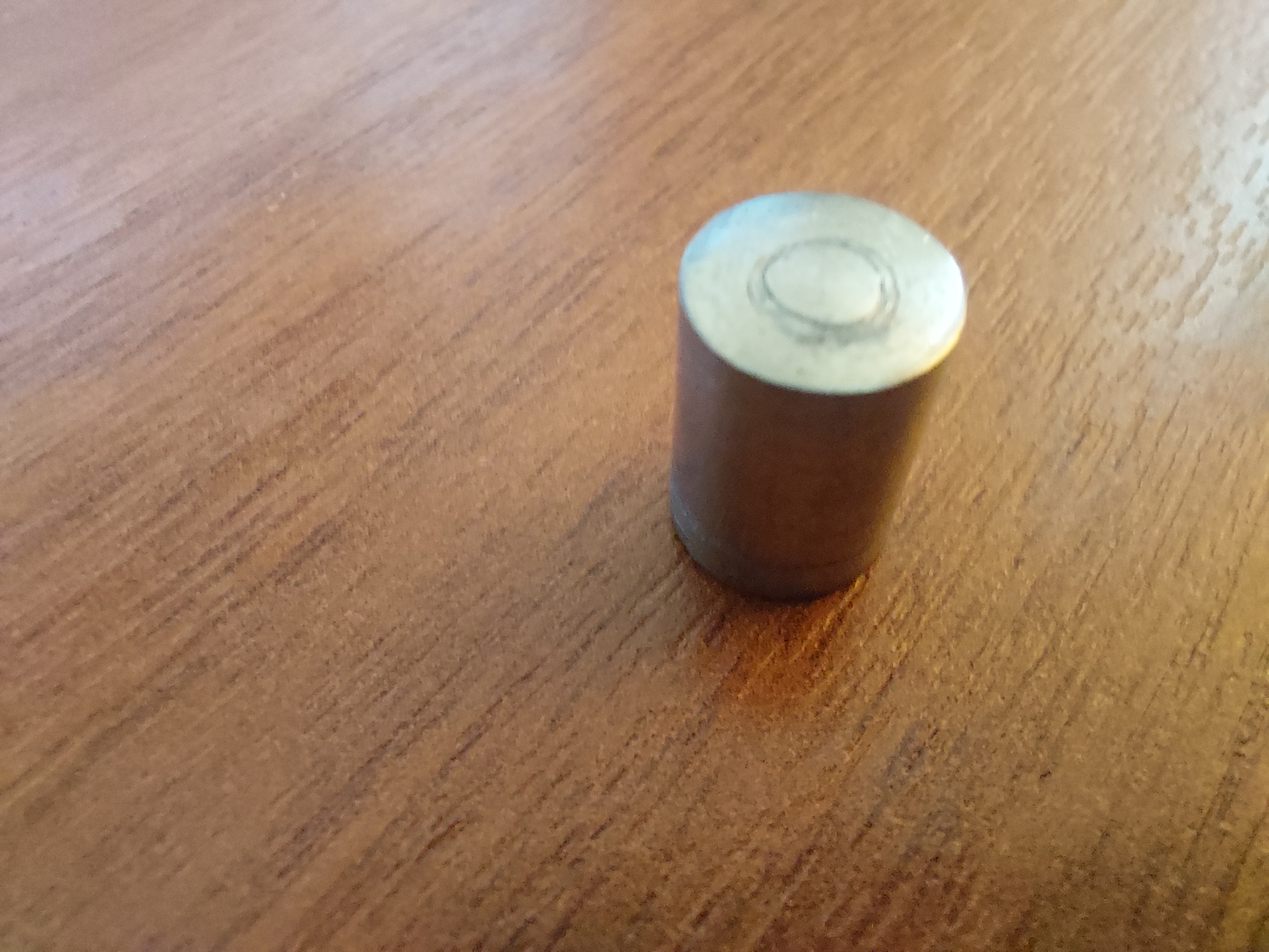tablet: (668, 175, 968, 633)
